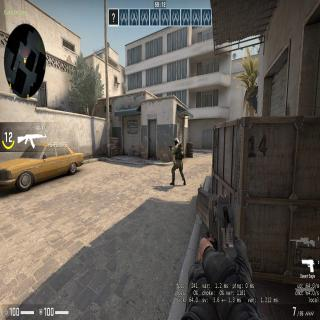CT-Body: (170, 134, 185, 182)
CT-Head: (173, 136, 180, 145)
